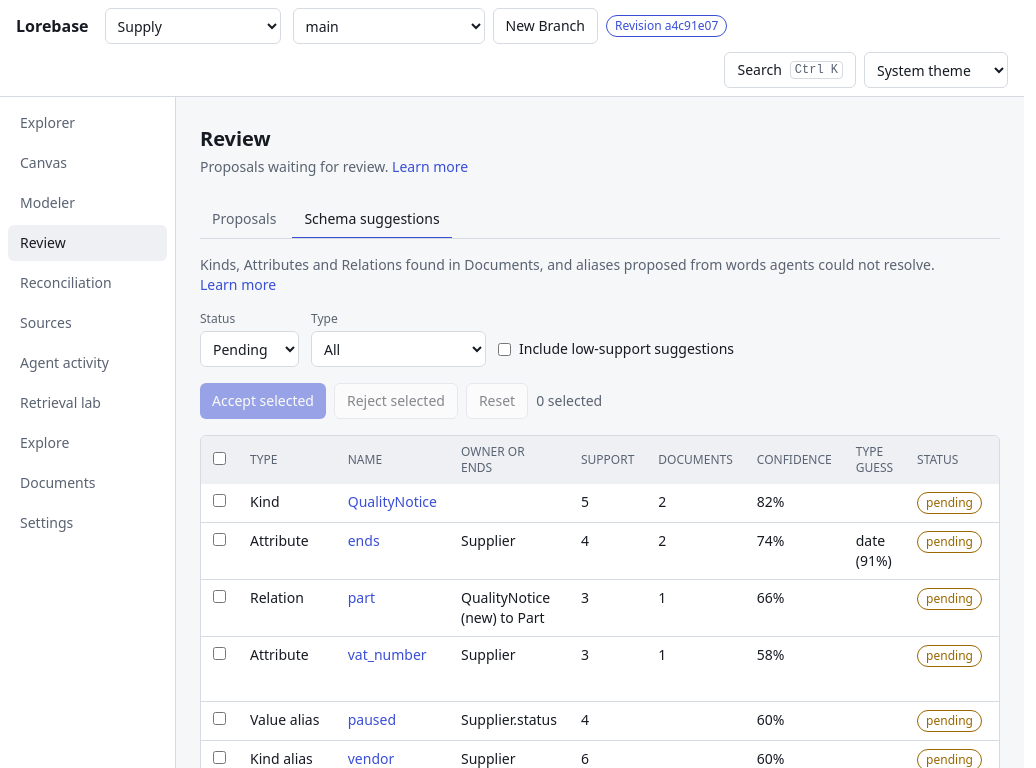
Review: schema suggestions › accepts a selection and links to the Proposal it opens
Click the checkbox named "Select QualityNotice" at (220, 500), box top-left (213, 494), bottom-right (226, 507)
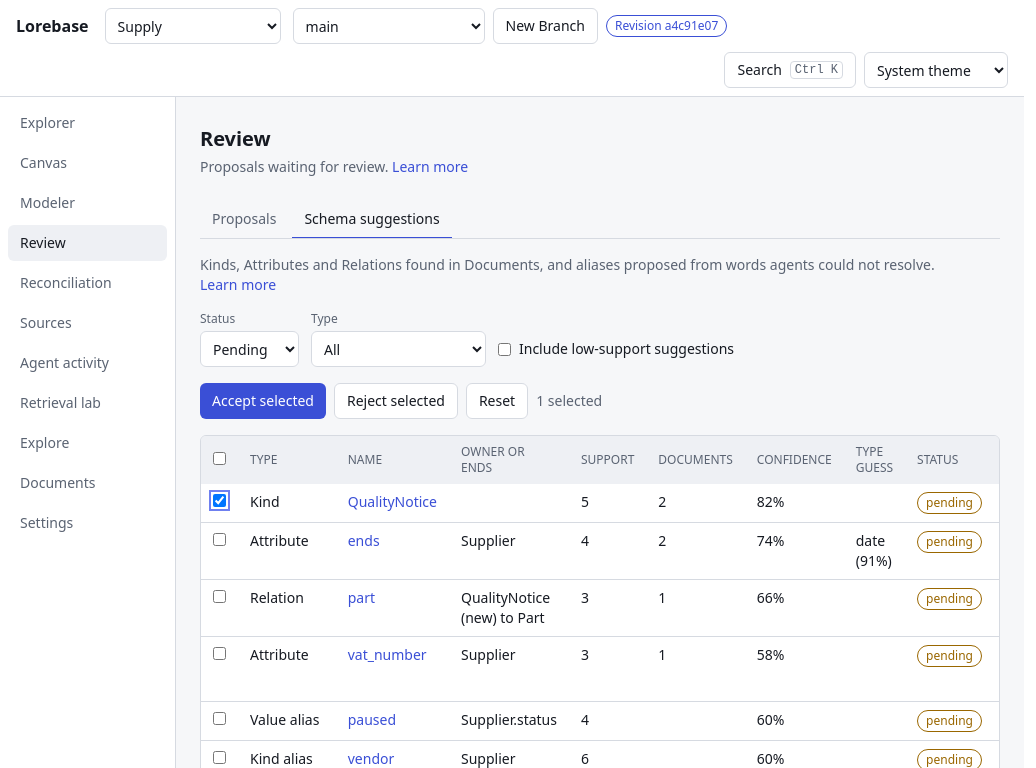
Click the checkbox named "Select part" at (220, 596), box top-left (213, 590), bottom-right (226, 603)
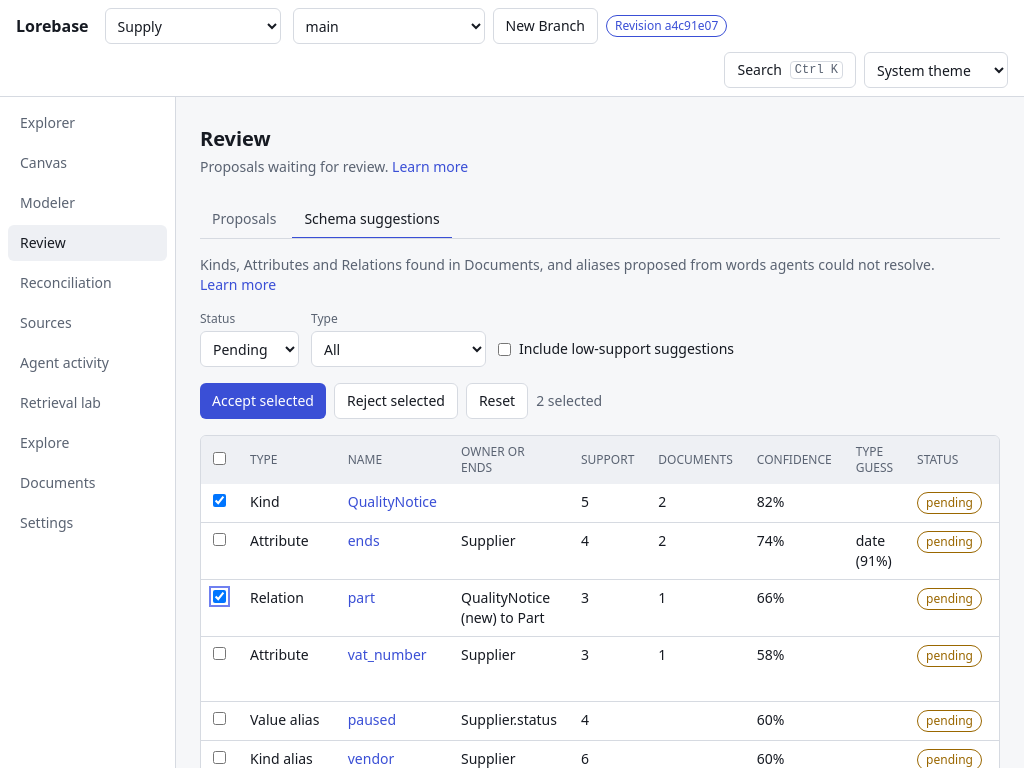
Click the button "Accept selected" at (263, 401), box top-left (200, 383), bottom-right (326, 419)
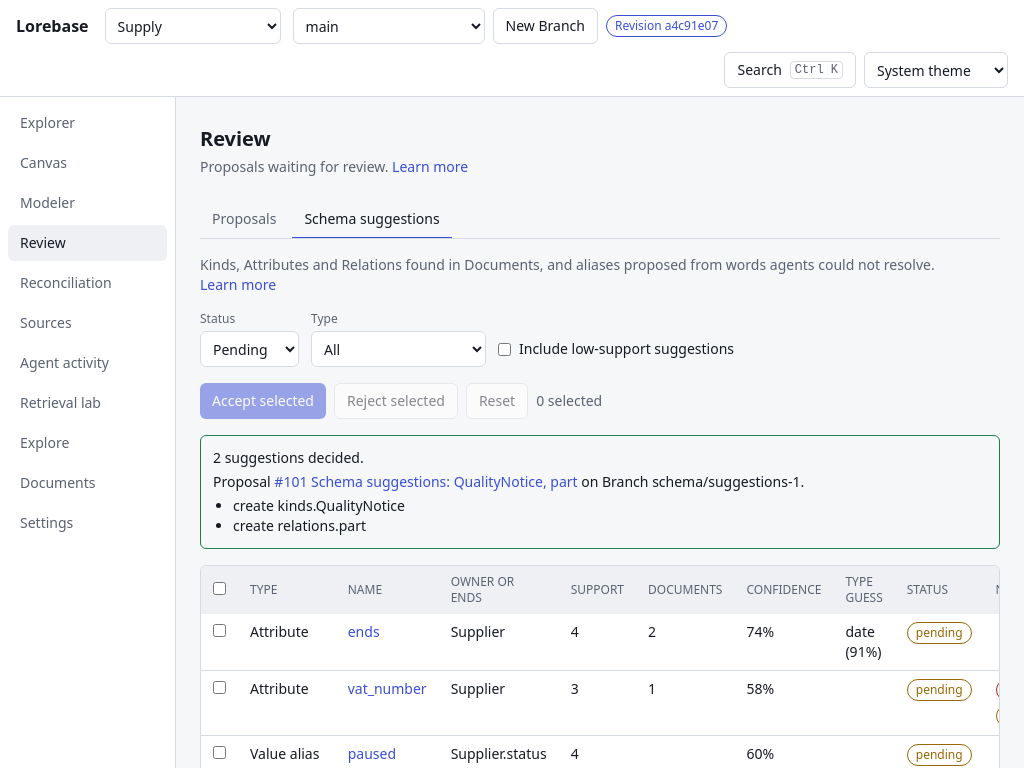
Now the list item "create kinds.QualityNotice" is shown, box top-left (233, 496), bottom-right (405, 515)
